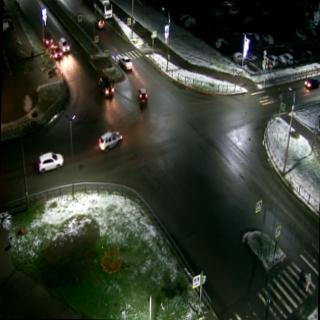large-vehicle: (93, 0, 113, 22)
small-vehicle: (98, 128, 122, 154), (36, 150, 64, 172), (96, 76, 116, 98), (136, 82, 148, 109), (306, 74, 320, 90), (57, 38, 69, 56), (120, 56, 132, 72), (276, 50, 286, 68), (284, 48, 294, 66), (267, 52, 278, 68), (92, 17, 106, 29), (51, 45, 62, 60), (43, 32, 53, 48), (233, 52, 246, 64), (263, 31, 274, 45), (216, 38, 230, 48), (184, 18, 195, 29)
